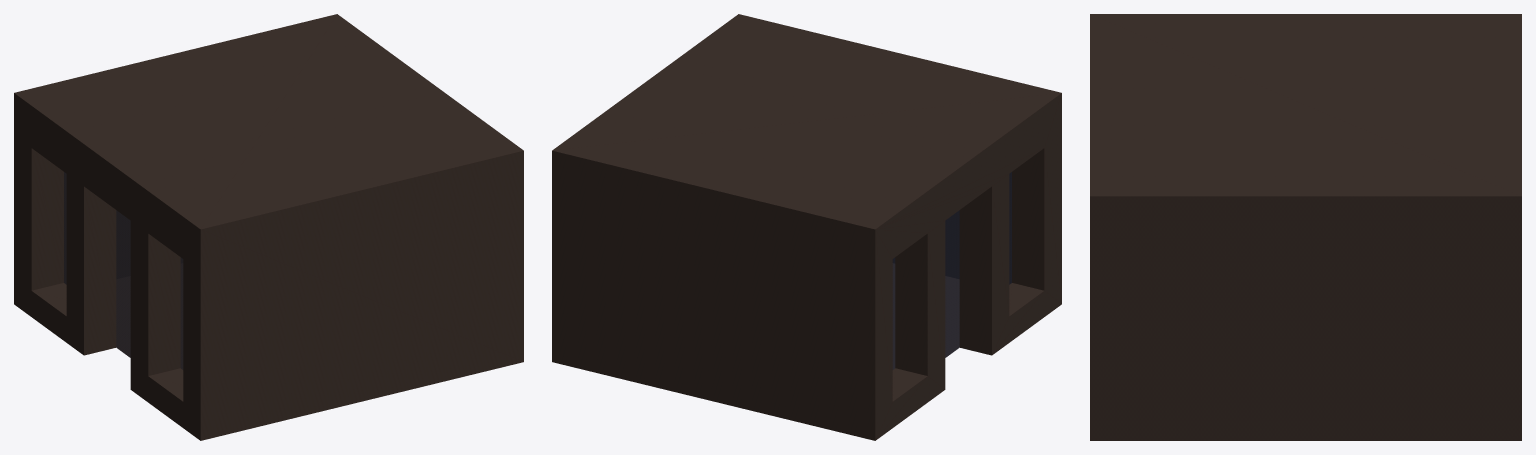
Rendered from modularBuildings_054.obj.
3 renders of one model, left to right at view 1: azimuth 30°, elevation 25°; view 2: azimuth 150°, elevation 25°; view 3: azimuth 270°, elevation 25°, orthographic. The views are drawn at different scales.
Visible parts, largest first — view 1: Mesh1 Group1 Model; view 2: Mesh1 Group1 Model; view 3: Mesh1 Group1 Model.
Part boxes in pixels (x1=…): Mesh1 Group1 Model: x1=14, y1=14, x2=523, y2=440; Mesh1 Group1 Model: x1=552, y1=14, x2=1061, y2=440; Mesh1 Group1 Model: x1=1090, y1=14, x2=1521, y2=440.
Bounding box in the file's own units: 1 × 0.625 × 1.
2 materials, 2 textured.
